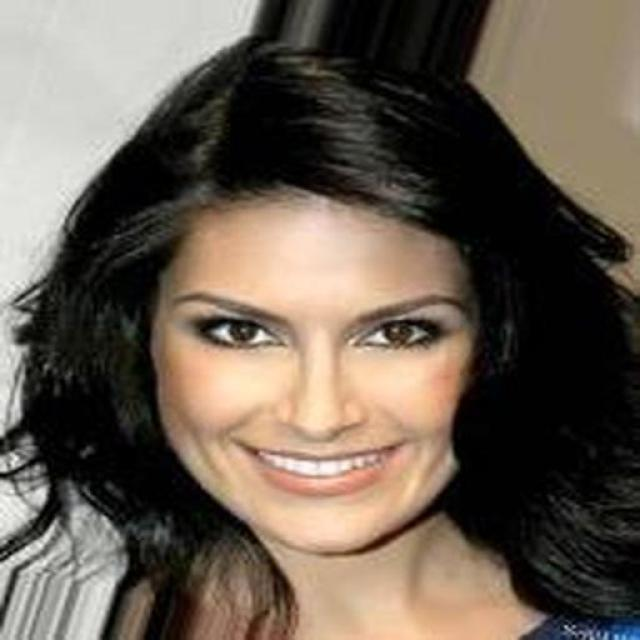bareface: (102, 80, 518, 528)
